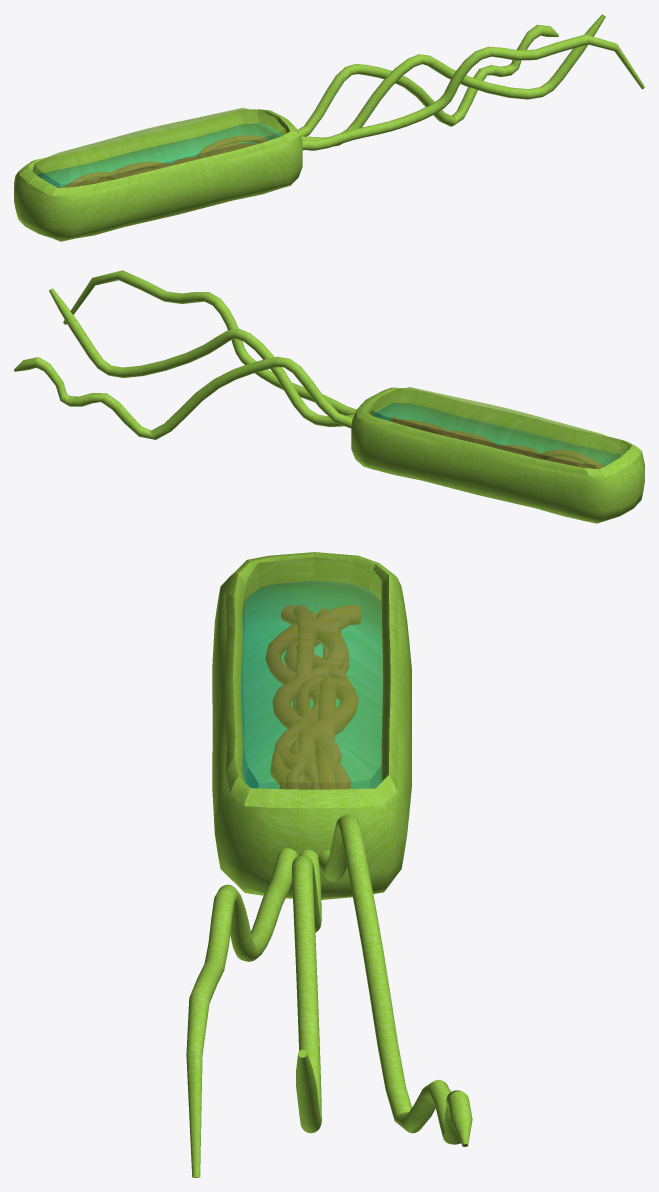
Rendered from Prokaryotic.fbx.
3 views of the same model, one above another, from view 1: azimuth 30°, elevation 25°; view 2: azimuth 150°, elevation 25°; view 3: azimuth 270°, elevation 25° (orthographic). The views are drawn at different scales.
Parts seen in each view (by area): view 1: polySurface2, polySurface13, polySurface15, polySurface12, polySurface14, polySurface11; view 2: polySurface2, polySurface12, polySurface14, polySurface15, polySurface13, polySurface11; view 3: polySurface2, polySurface15, polySurface11, polySurface12, polySurface13, polySurface14.
Boxes of the visible parts, x1=… form: polySurface2: x1=14, y1=108, x2=302, y2=241; polySurface13: x1=302, y1=34, x2=644, y2=150; polySurface15: x1=37, y1=122, x2=282, y2=186; polySurface12: x1=298, y1=24, x2=558, y2=136; polySurface14: x1=301, y1=14, x2=605, y2=146; polySurface11: x1=57, y1=135, x2=266, y2=187; polySurface2: x1=351, y1=387, x2=644, y2=523; polySurface12: x1=14, y1=356, x2=352, y2=439; polySurface14: x1=49, y1=288, x2=354, y2=427; polySurface15: x1=372, y1=403, x2=621, y2=465; polySurface13: x1=63, y1=270, x2=373, y2=415; polySurface11: x1=389, y1=416, x2=604, y2=468; polySurface2: x1=212, y1=552, x2=411, y2=899; polySurface15: x1=241, y1=580, x2=382, y2=788; polySurface11: x1=265, y1=604, x2=361, y2=789; polySurface12: x1=318, y1=814, x2=472, y2=1146; polySurface13: x1=186, y1=848, x2=297, y2=1177; polySurface14: x1=292, y1=850, x2=321, y2=1133.
Size of the model in its own units: 76.1 by 13.88 by 15.9.
5 materials, 4 textured.
